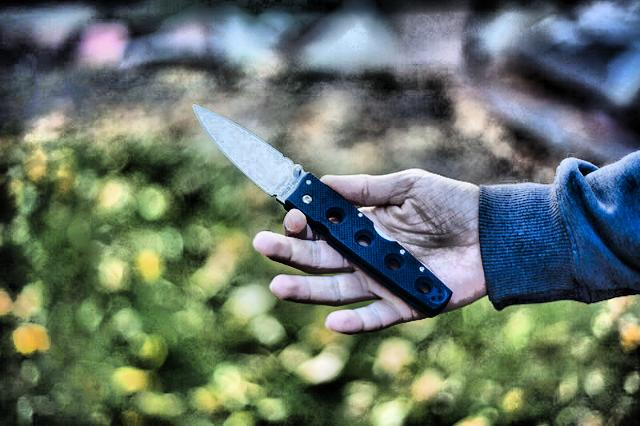knife: (184, 94, 403, 304)
